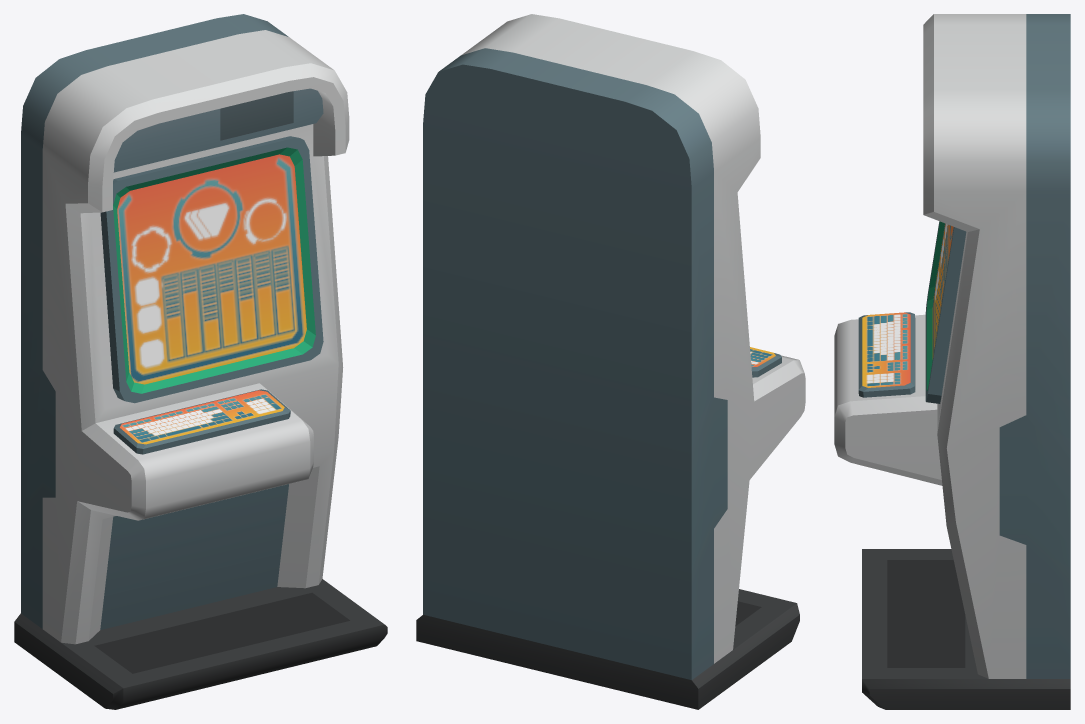
File: Terminal_004.fbx
3 views of the same model, side by side, from view 1: azimuth 30°, elevation 25°; view 2: azimuth 150°, elevation 25°; view 3: azimuth 270°, elevation 25° (orthographic). The views are drawn at different scales.
Visible parts, largest first — view 1: Terminal_004; view 2: Terminal_004; view 3: Terminal_004.
Part boxes in pixels (left/top/right/bottom): Terminal_004: left=14, top=14, right=387, bottom=709; Terminal_004: left=416, top=14, right=805, bottom=709; Terminal_004: left=834, top=14, right=1070, bottom=709.
Size of the model in its own units: 105 by 76.9 by 210.
